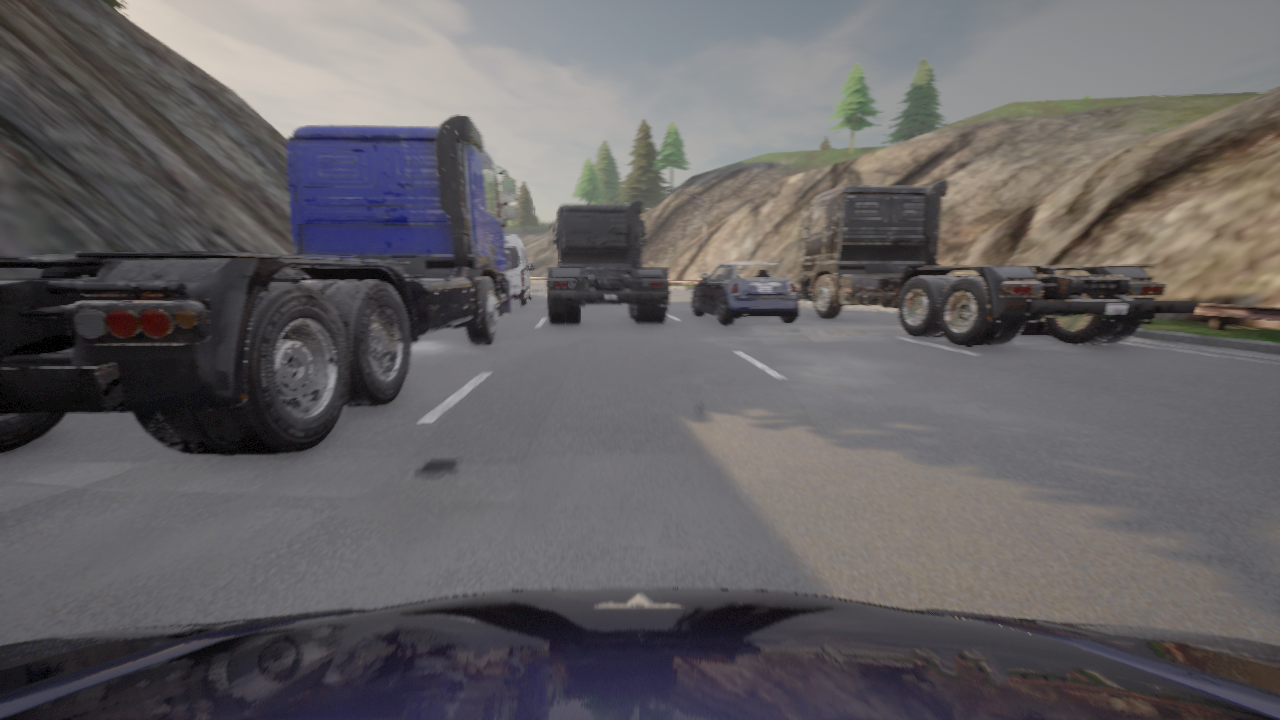cyclist: (0, 115, 517, 455), (0, 588, 1279, 719), (799, 180, 1198, 346), (547, 201, 669, 324), (692, 262, 800, 324), (505, 235, 534, 305)
